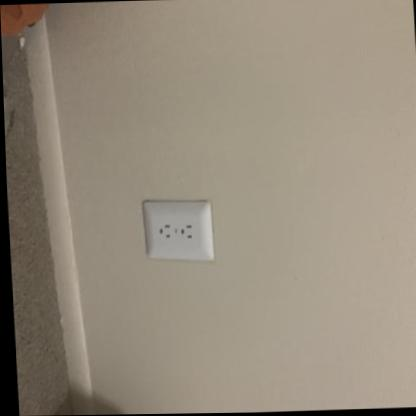OUTLET: (144, 200, 214, 258)
